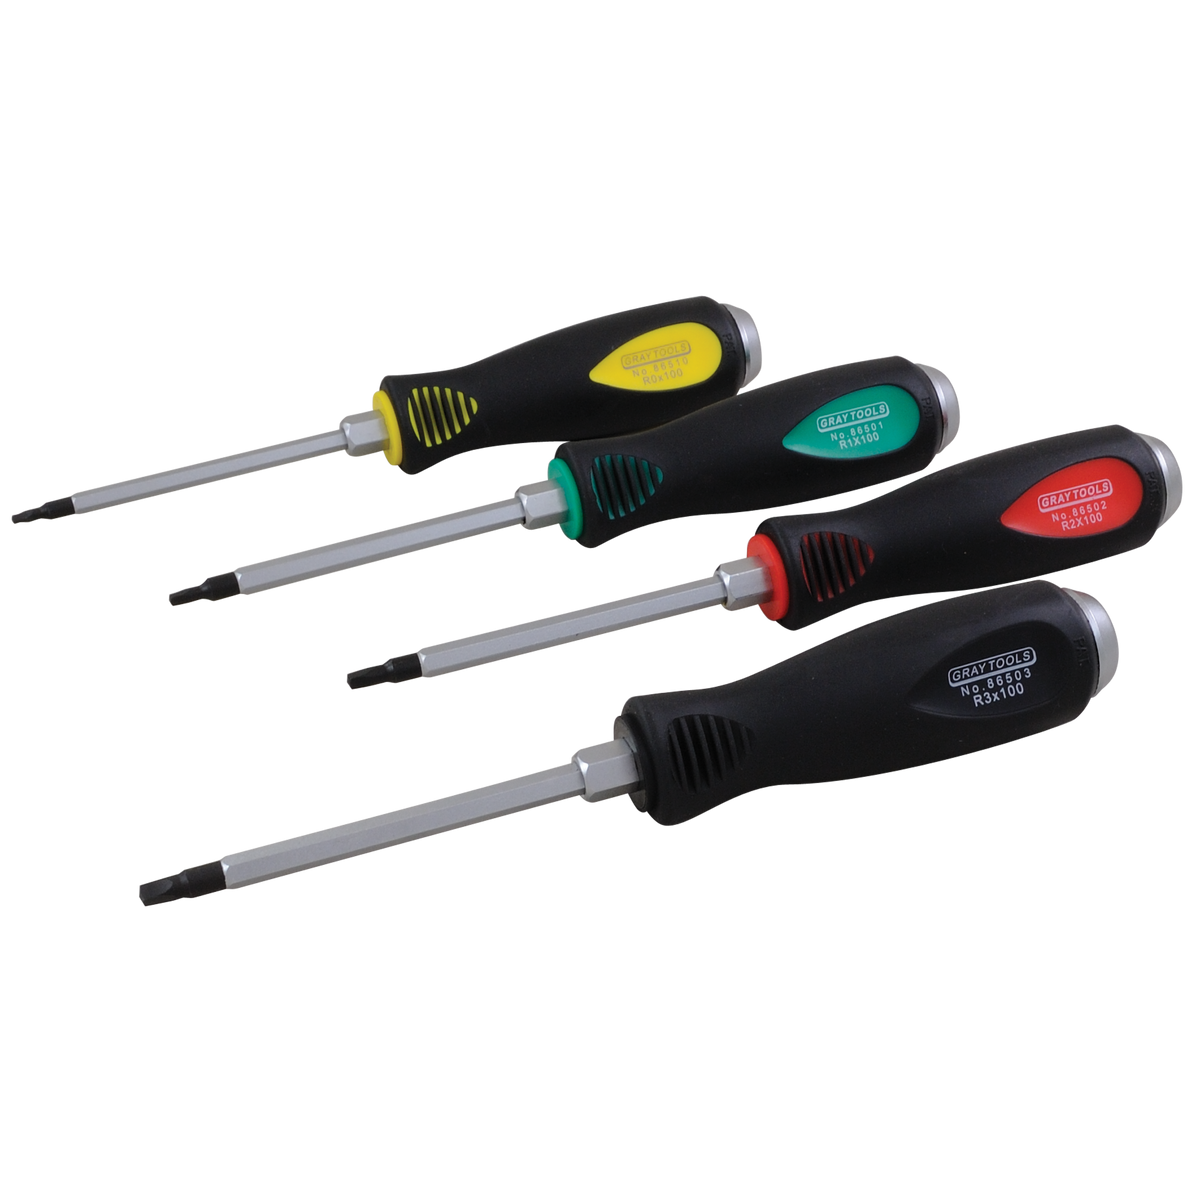screwdriver: (140, 579, 1122, 905), (344, 421, 1184, 691), (163, 353, 962, 608), (4, 296, 765, 527)
